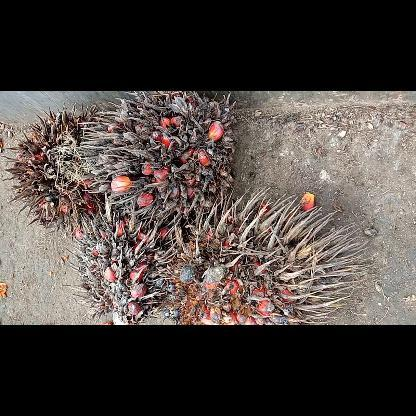Terlalu masak: (150, 182, 376, 324), (74, 91, 242, 229), (0, 101, 112, 239), (62, 194, 180, 324)
